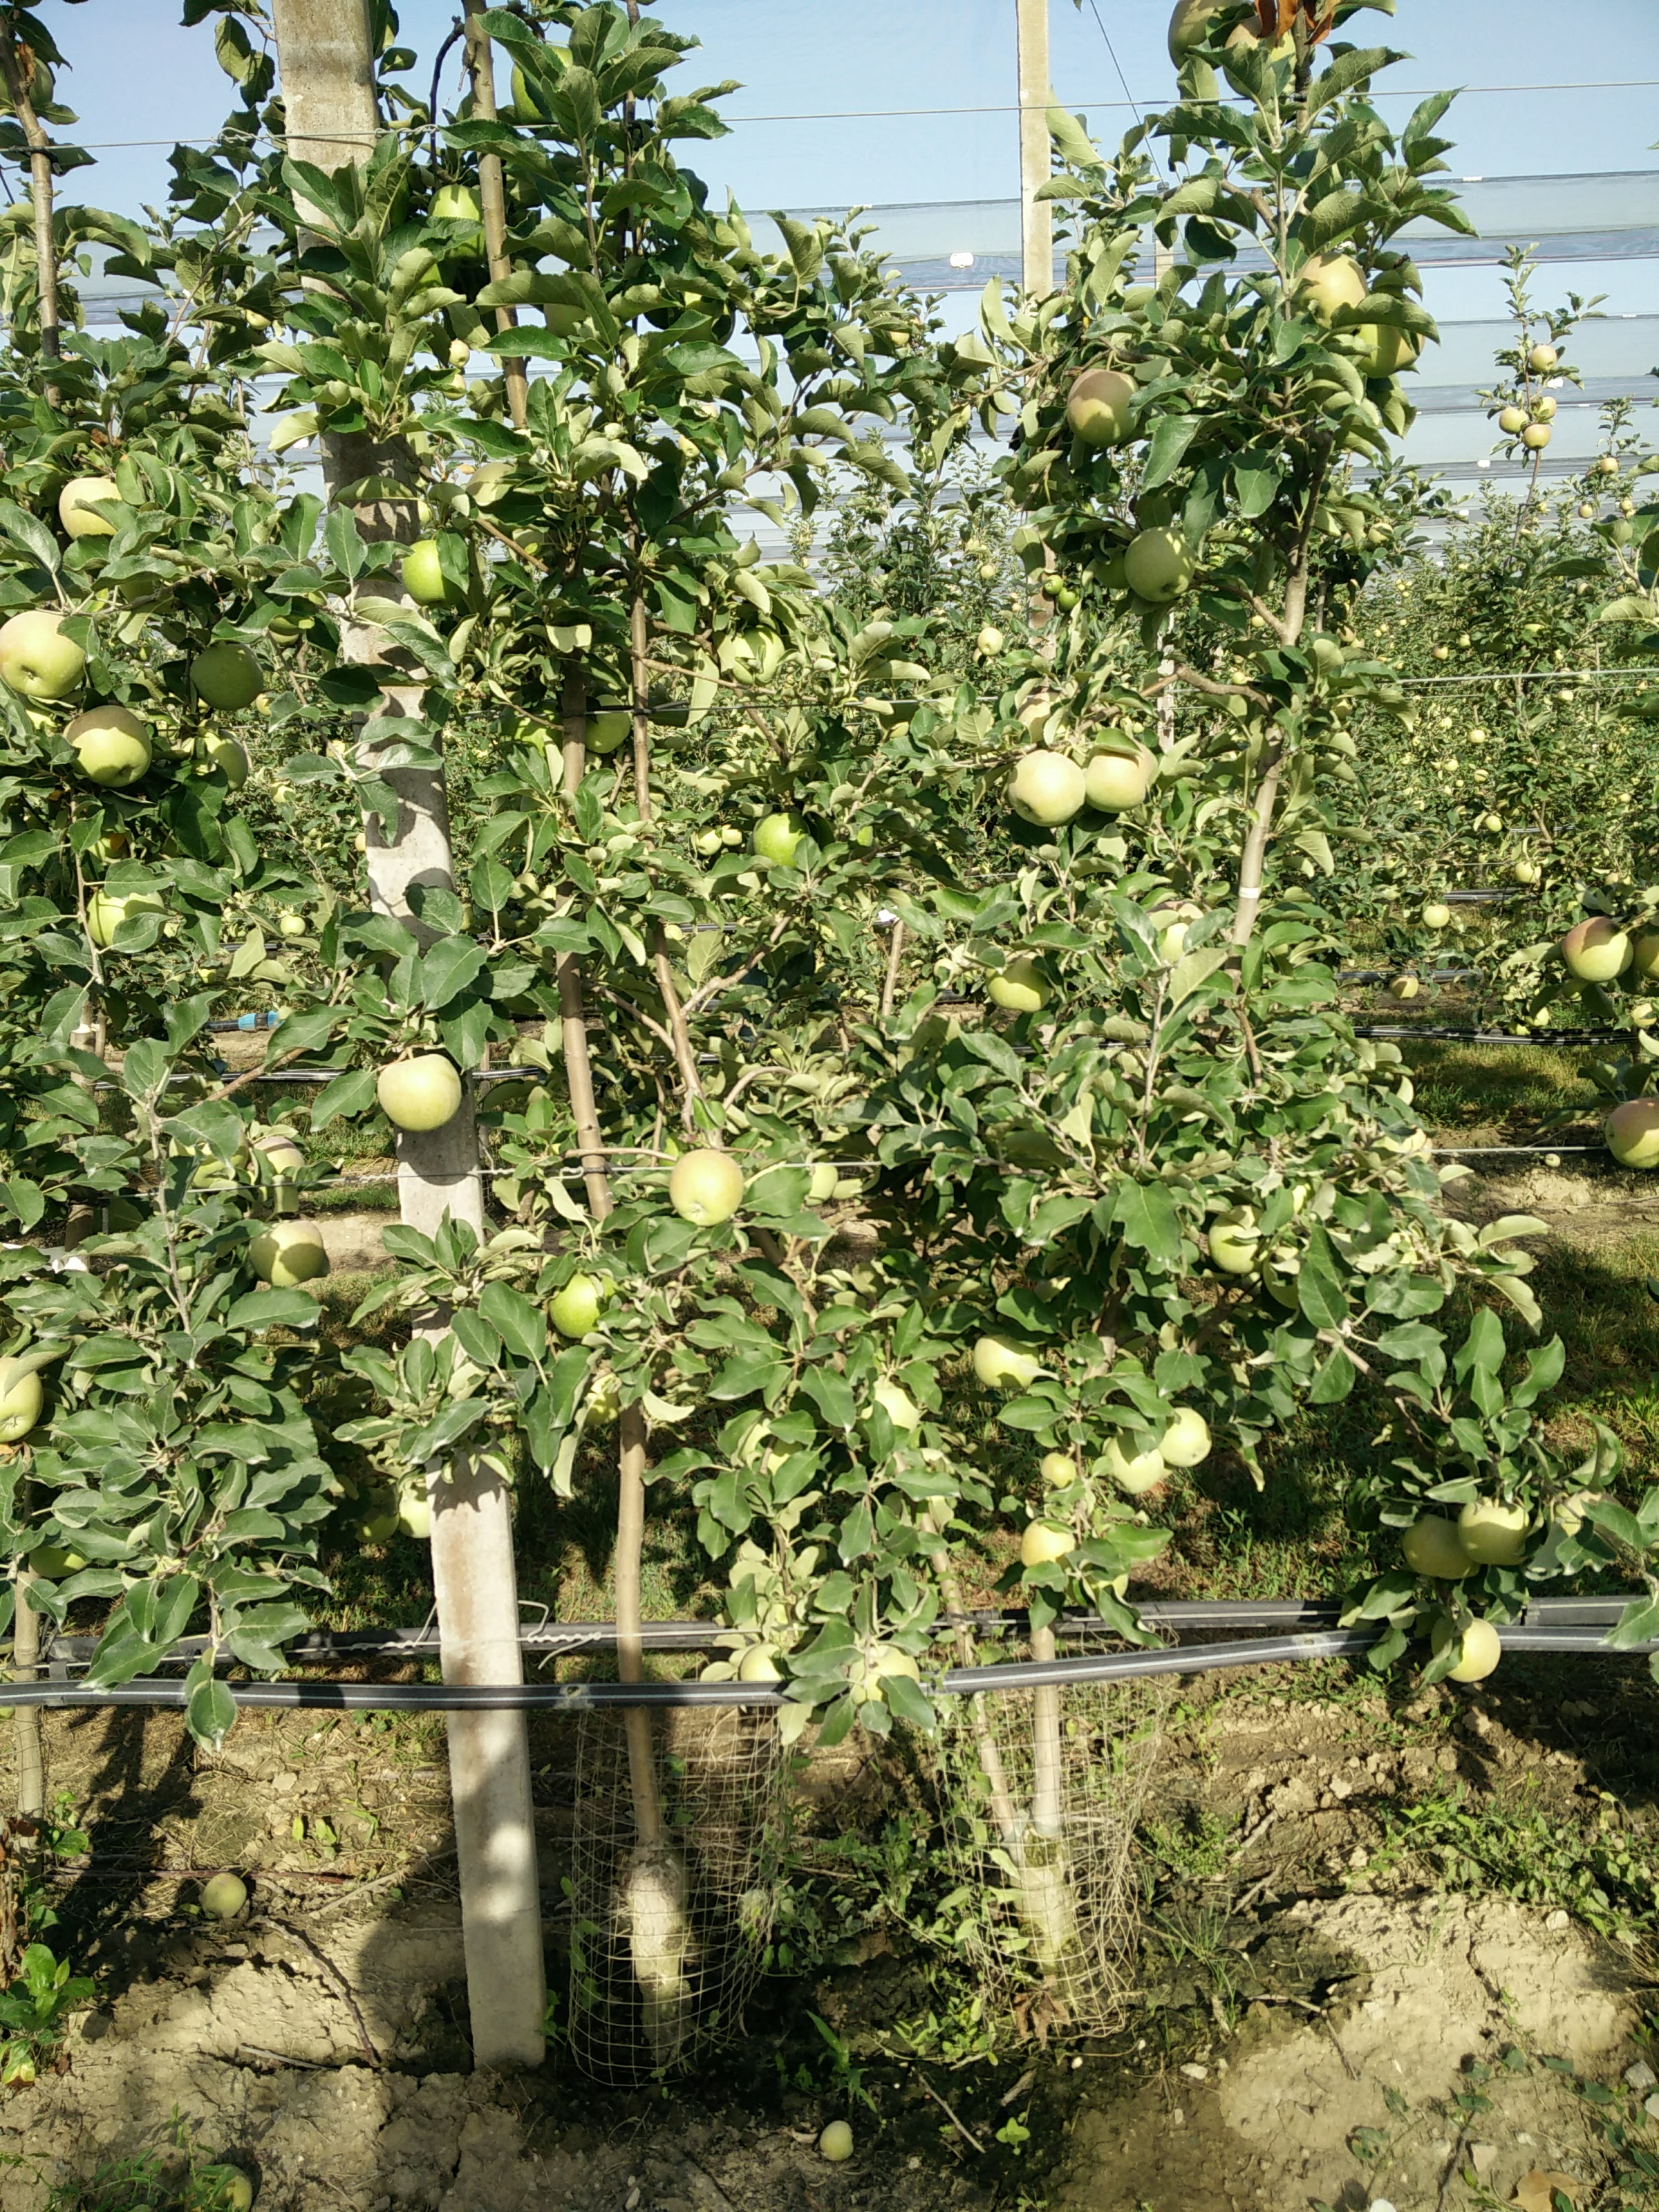apple: (58, 702, 157, 788), (3, 607, 91, 697), (373, 1051, 467, 1134), (1076, 730, 1159, 814), (1289, 247, 1371, 332), (1006, 749, 1084, 833), (666, 1149, 747, 1227), (1068, 368, 1145, 444), (1120, 527, 1193, 602), (1399, 1511, 1472, 1584), (57, 477, 131, 547), (1561, 915, 1634, 984), (1460, 1498, 1533, 1568), (1430, 1610, 1499, 1681), (1097, 1432, 1164, 1495), (1151, 1412, 1215, 1470), (1015, 1517, 1077, 1576)
